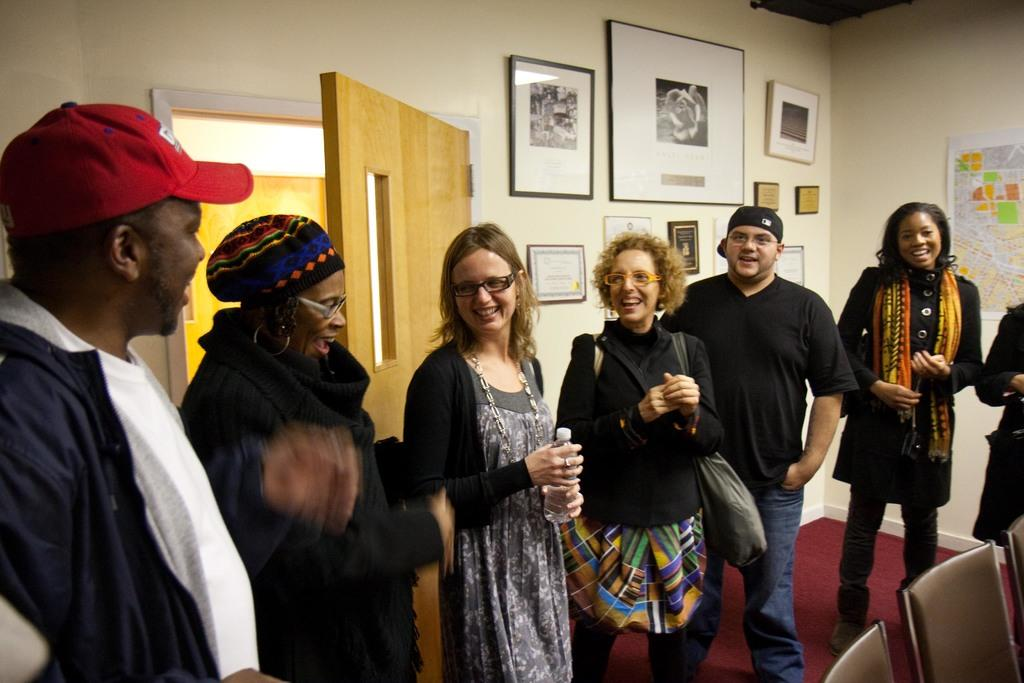Hat: (0, 97, 252, 237), (714, 205, 782, 258)
